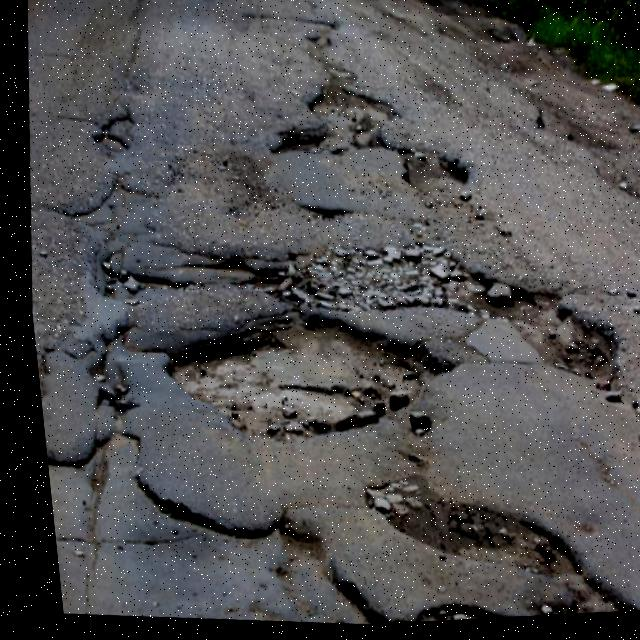Pothole: (145, 297, 437, 455), (384, 485, 573, 591), (417, 584, 640, 625), (454, 271, 549, 341), (548, 306, 620, 397), (85, 238, 171, 307), (386, 143, 466, 217), (310, 71, 394, 140), (274, 116, 330, 176), (84, 101, 138, 163), (242, 244, 285, 304)
